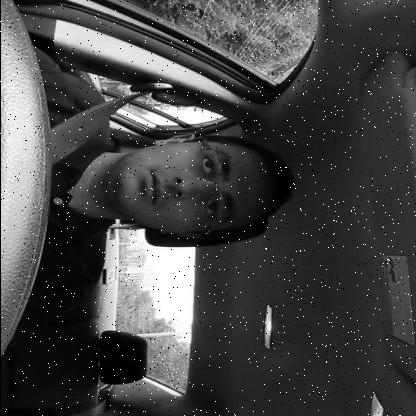seatbelt: (0, 70, 297, 256)
